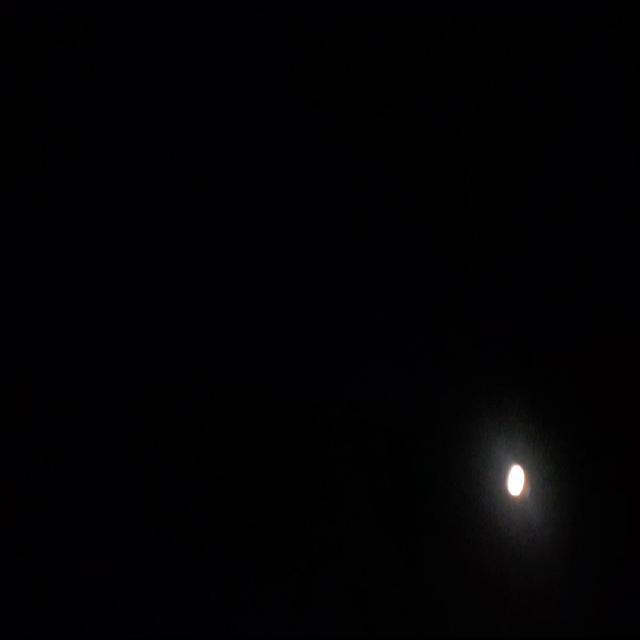moon: (507, 461, 530, 494)
